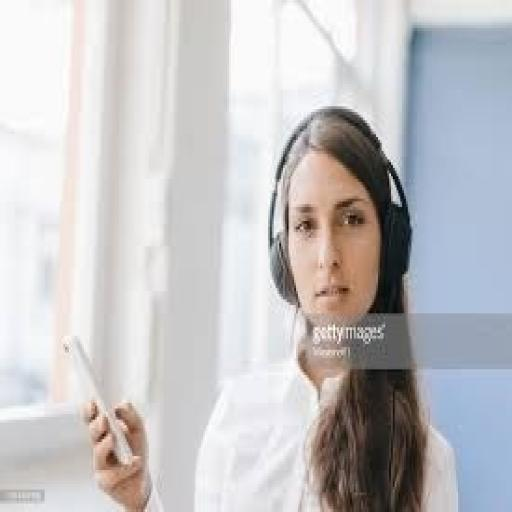texting: (80, 101, 460, 509)
